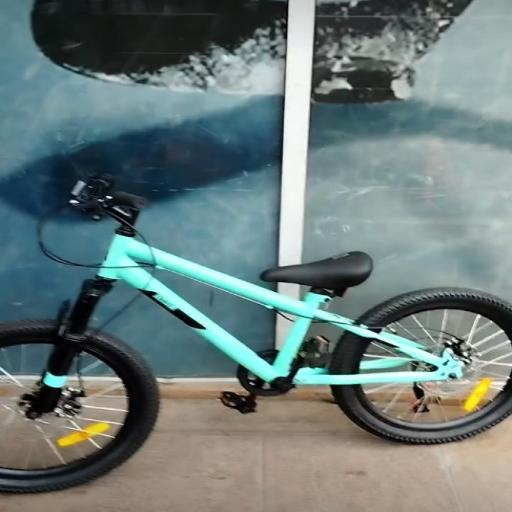bag: (0, 177, 511, 492)
